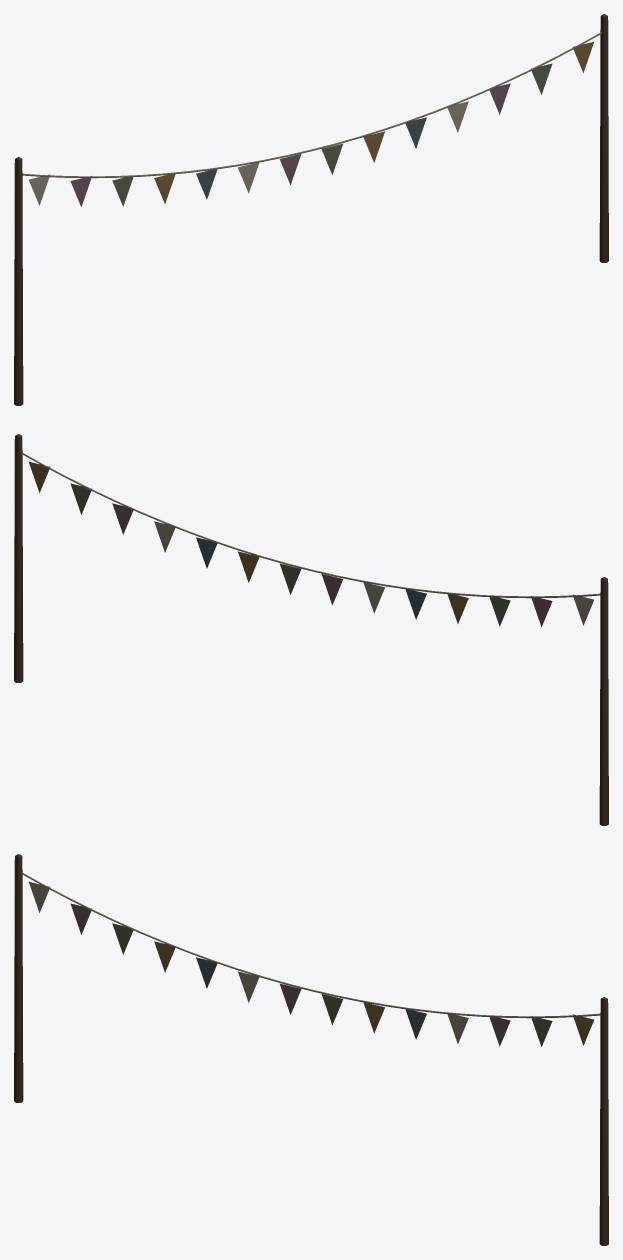
File: bunting.glb
The picture shows the model from 3 angles, top to bottom: view 1: azimuth 30°, elevation 25°; view 2: azimuth 150°, elevation 25°; view 3: azimuth 330°, elevation 25°; orthographic projection.
Visible parts, largest first — view 1: bunting; view 2: bunting; view 3: bunting.
Boxes of the visible parts, bbox=[...] form: bunting: bbox=[14, 14, 608, 405]; bunting: bbox=[14, 434, 608, 825]; bunting: bbox=[14, 854, 608, 1245].
Size of the model in its own units: 8.1 by 3.23 by 0.11.
